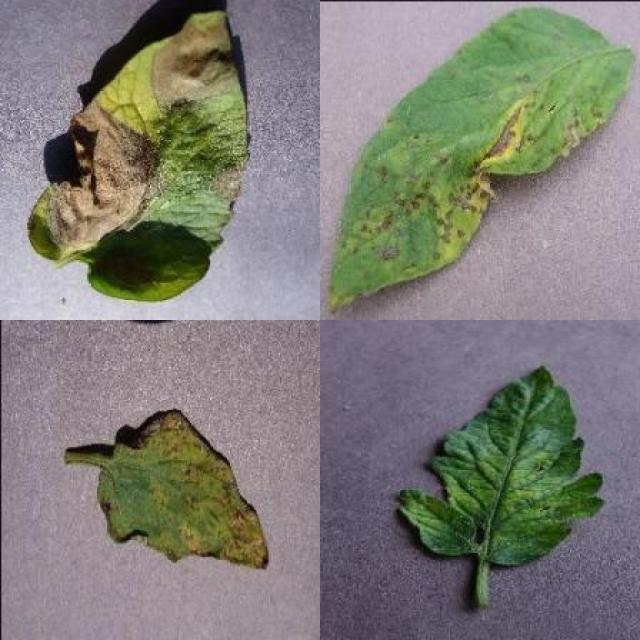Late Blight: (26, 8, 251, 303)
Mosaic Virus: (394, 364, 606, 566)
Septoria: (329, 5, 634, 308), (96, 411, 270, 573)
